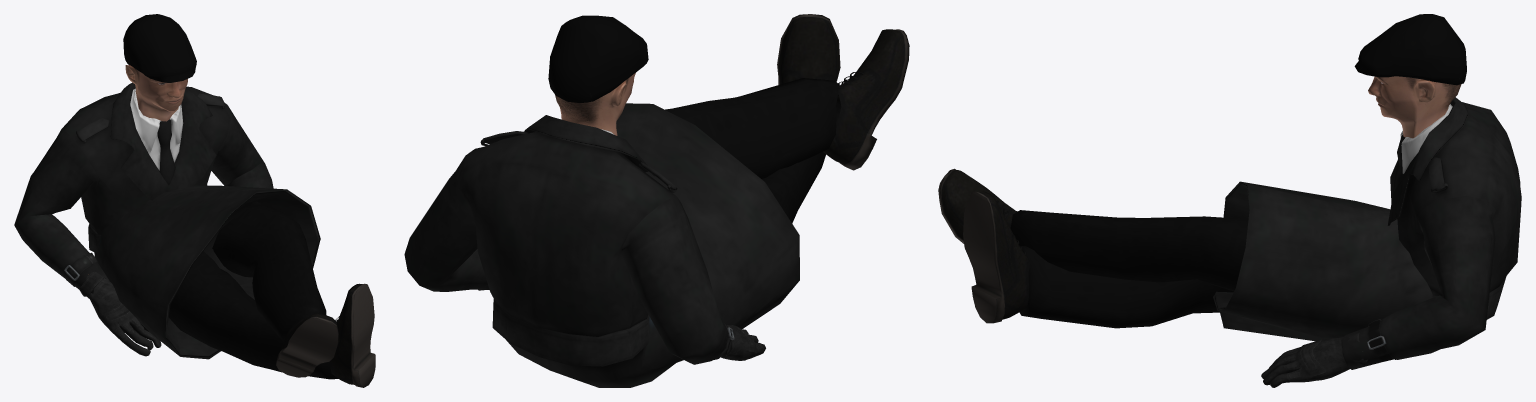
File: new man.fbx
3 renders of one model, left to right at view 1: azimuth 30°, elevation 25°; view 2: azimuth 150°, elevation 25°; view 3: azimuth 270°, elevation 25°, orthographic. The views are drawn at different scales.
Visible parts, largest first — view 1: Tops, Bottoms, Shoes, Hats, Gloves, Body; view 2: Tops, Bottoms, Shoes, Hats, Body, Gloves; view 3: Tops, Bottoms, Shoes, Hats, Body, Gloves.
Part boxes in pixels (x1,y1,x2,y2): Tops: [14, 82, 320, 359]; Bottoms: [168, 207, 338, 379]; Shoes: [276, 283, 375, 387]; Hats: [123, 14, 196, 82]; Gloves: [79, 272, 161, 356]; Body: [88, 65, 187, 274]; Tops: [404, 103, 799, 387]; Bottoms: [665, 78, 838, 223]; Shoes: [777, 14, 909, 170]; Hats: [548, 15, 648, 102]; Body: [555, 73, 635, 135]; Gloves: [721, 325, 765, 360]; Tops: [1213, 97, 1521, 369]; Bottoms: [1010, 210, 1248, 328]; Shoes: [938, 168, 1029, 323]; Hats: [1354, 14, 1466, 85]; Body: [1368, 76, 1461, 138]; Gloves: [1261, 332, 1367, 387].
Size of the model in its own units: 75.35 by 83.39 by 132.
1 material, 1 textured.
